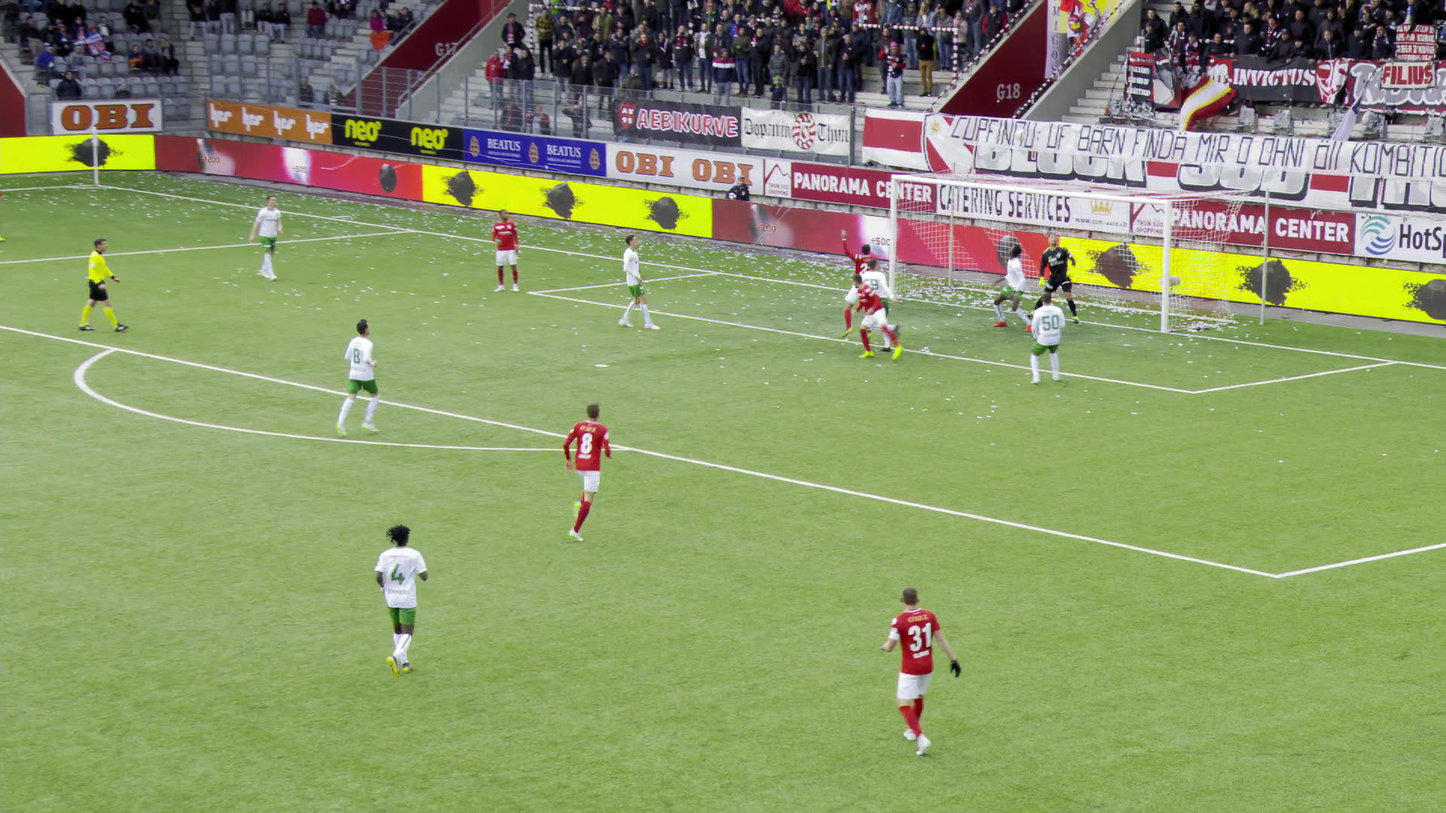ball: (1010, 133, 1023, 147)
player: (887, 581, 961, 754), (373, 524, 429, 681), (560, 403, 618, 538), (334, 320, 386, 437), (1027, 233, 1084, 324), (851, 273, 904, 361), (859, 257, 907, 352), (837, 230, 878, 339), (990, 245, 1037, 331), (1029, 293, 1070, 385), (617, 230, 655, 329), (252, 195, 289, 280), (493, 209, 529, 294), (0, 187, 5, 241)
referee: (81, 236, 127, 333)
